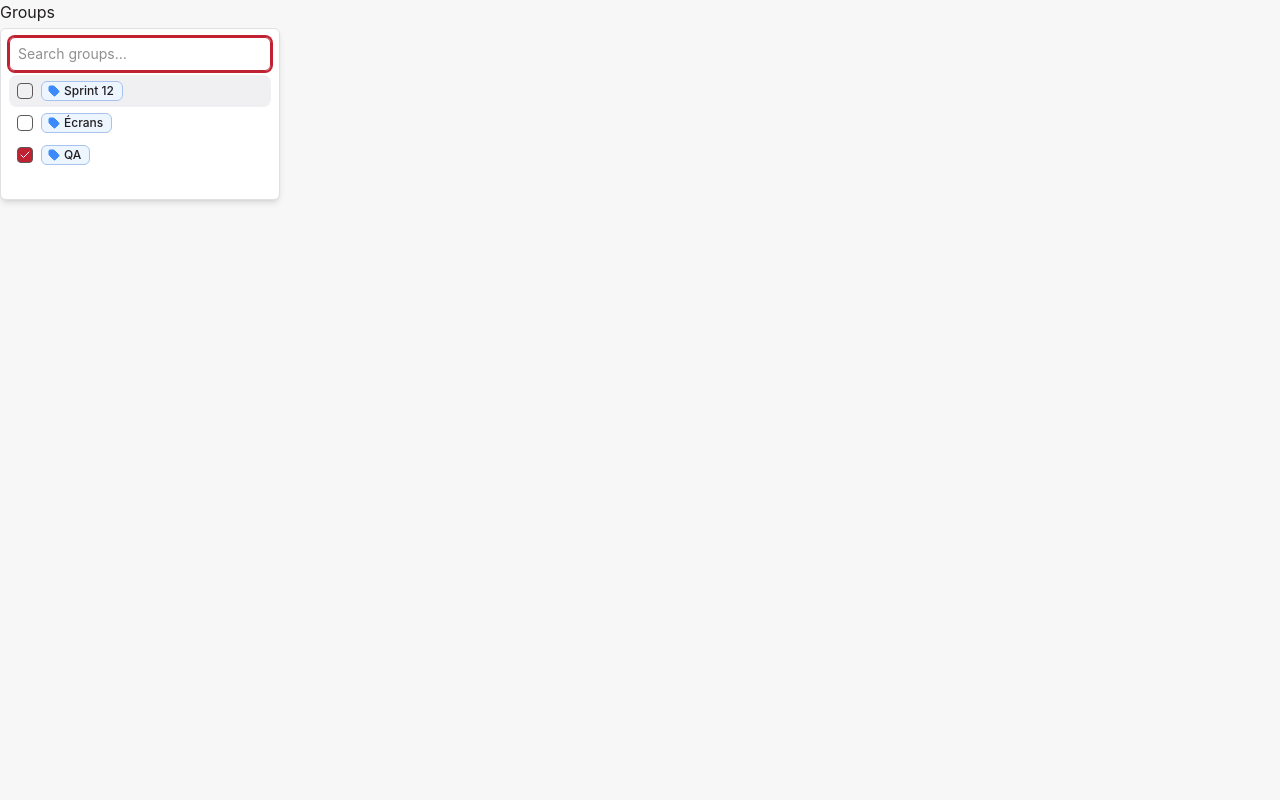
Test: GroupPicker checkbox mode › errors when ok result is not reflected in the store (Pitfall 6)
Step 1. Click the option "Sprint 12" → [82, 91], box [9,75,271,107]
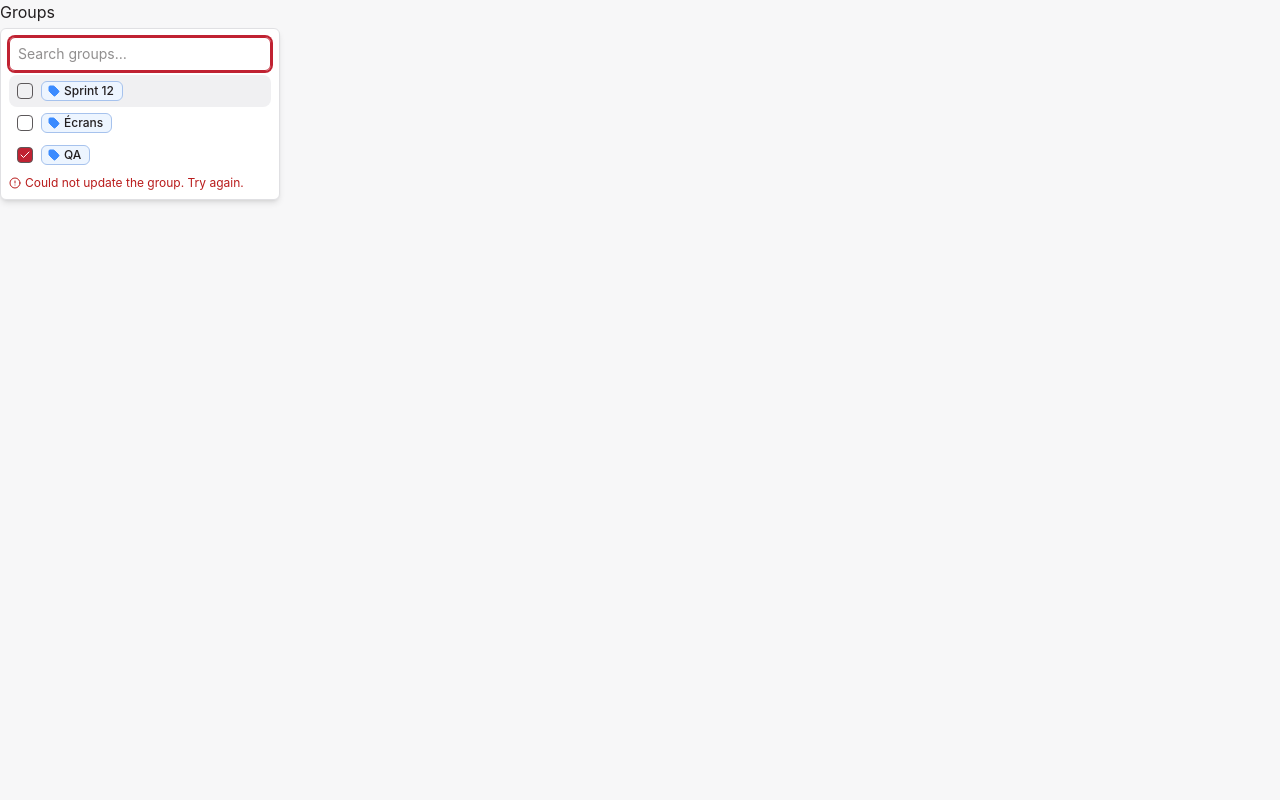
Now the message reads "Could not update the group. Try again.", box [25,175,244,190]
